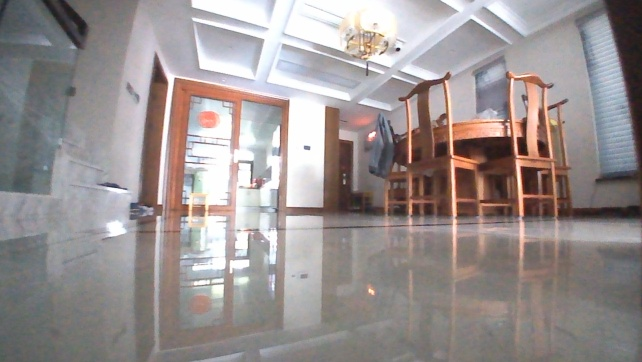dining_table: (366, 68, 575, 220)
